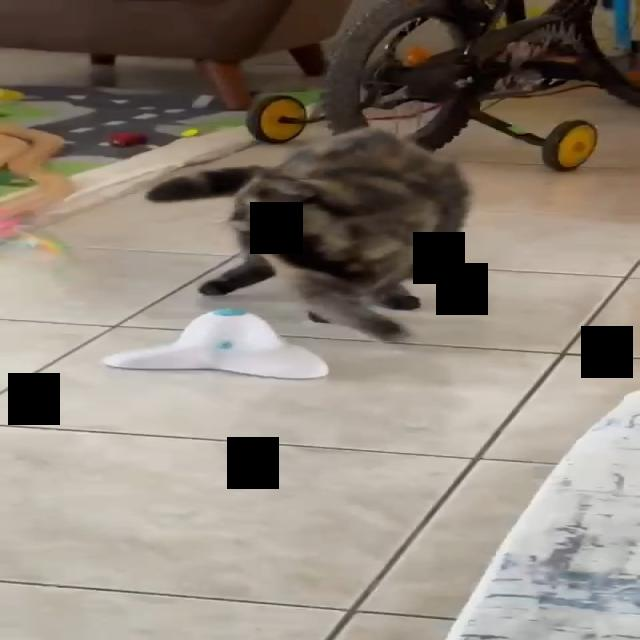authorized: (144, 126, 472, 343)
